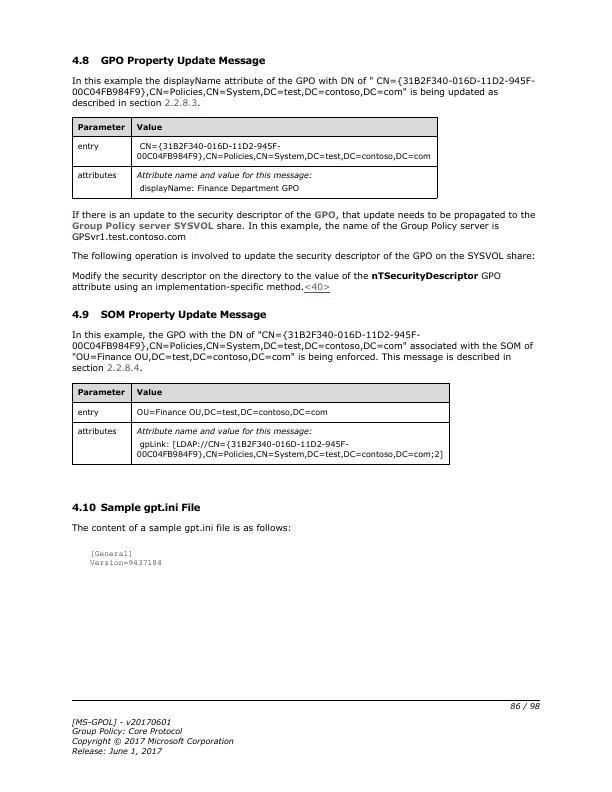table: (72, 383, 450, 467), (71, 117, 439, 199)
text: (69, 328, 535, 374), (69, 207, 538, 243), (68, 75, 535, 108), (70, 270, 502, 294), (69, 715, 235, 756), (70, 249, 537, 263), (68, 54, 269, 69), (70, 521, 292, 534), (71, 308, 268, 322), (69, 501, 202, 515), (84, 547, 164, 566)
